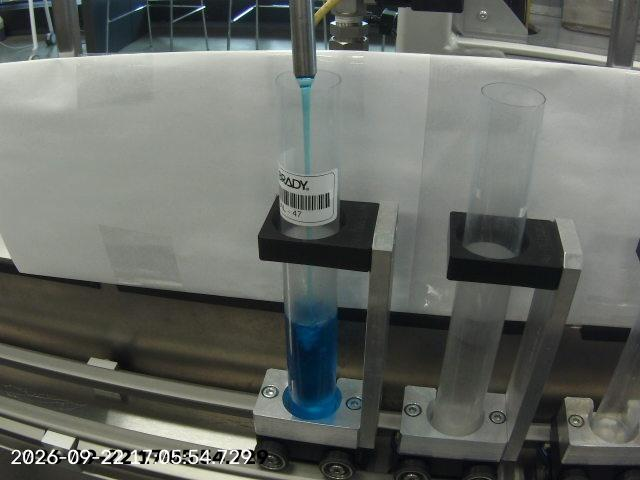vial: (428, 79, 550, 440), (273, 65, 345, 421)
